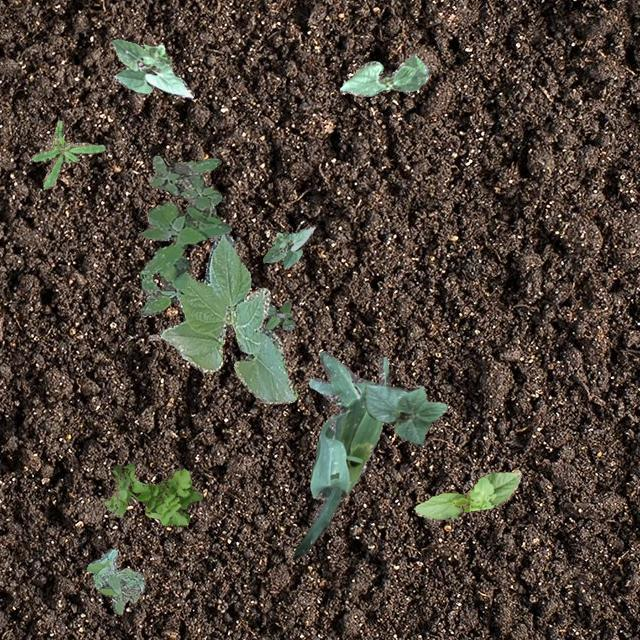crop: (158, 232, 296, 402), (292, 350, 388, 558), (412, 468, 520, 520), (364, 384, 446, 446), (112, 38, 194, 98), (338, 52, 428, 96), (262, 225, 314, 268)
weed: (138, 154, 230, 316), (102, 462, 202, 526), (31, 118, 104, 188), (85, 548, 144, 614), (264, 300, 294, 330)
